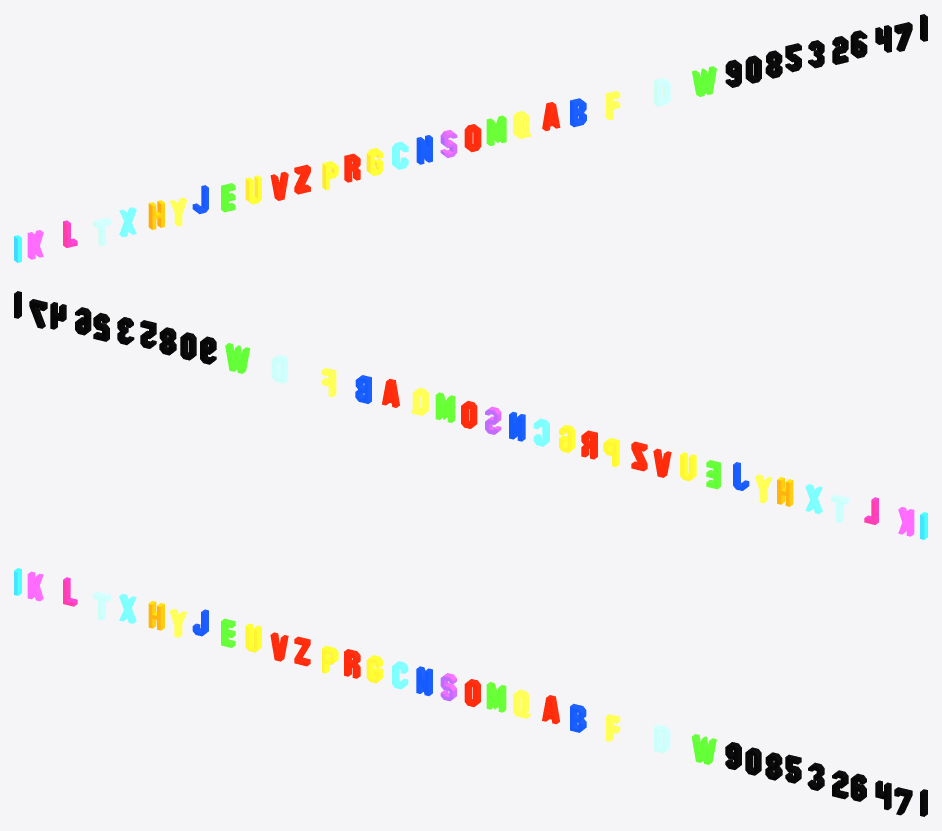
File: alphabets blend.fbx
3 views of the same model, one above another, from view 1: azimuth 30°, elevation 25°; view 2: azimuth 150°, elevation 25°; view 3: azimuth 330°, elevation 25° (orthographic).
Visible parts, largest first — view 1: Extrusion Model.14049, Extrusion Model.12690; view 2: Extrusion Model.14049, Extrusion Model.12690; view 3: Extrusion Model.14049, Extrusion Model.12690.
Part boxes in pixels (x1,y1,x2,y2): Extrusion Model.14049: (692, 66, 716, 96); Extrusion Model.12690: (486, 115, 506, 145); Extrusion Model.14049: (225, 343, 250, 373); Extrusion Model.12690: (435, 392, 455, 422); Extrusion Model.14049: (691, 734, 716, 764); Extrusion Model.12690: (486, 682, 506, 712).
Size of the model in its own units: 568 by 19.52 by 4.42.
